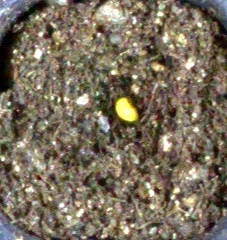chilli seed: (114, 96, 138, 121)
